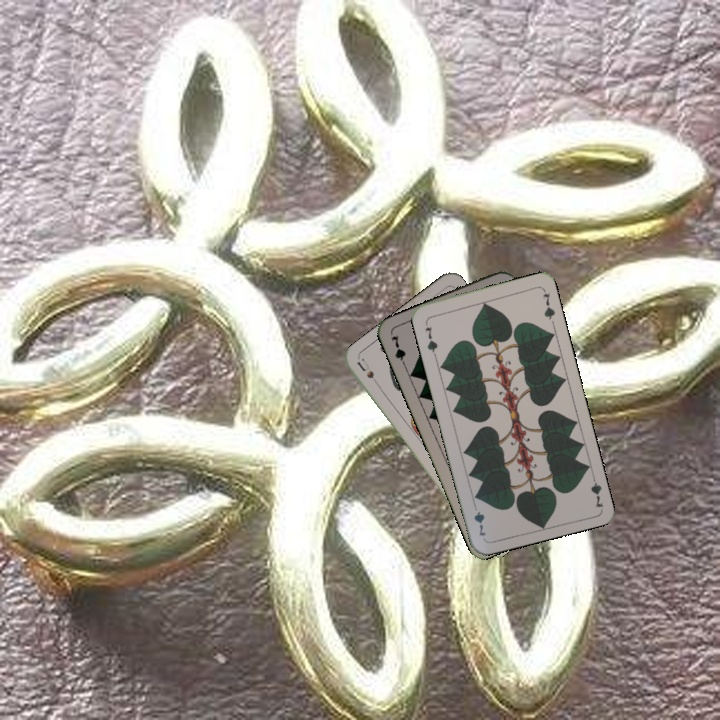G7: (387, 331, 409, 371), (587, 469, 606, 510), (421, 322, 440, 357)
SU: (353, 355, 384, 392)
